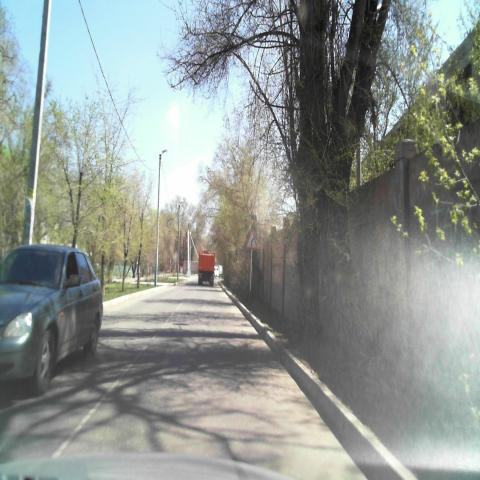1_11: (246, 228, 258, 250)
